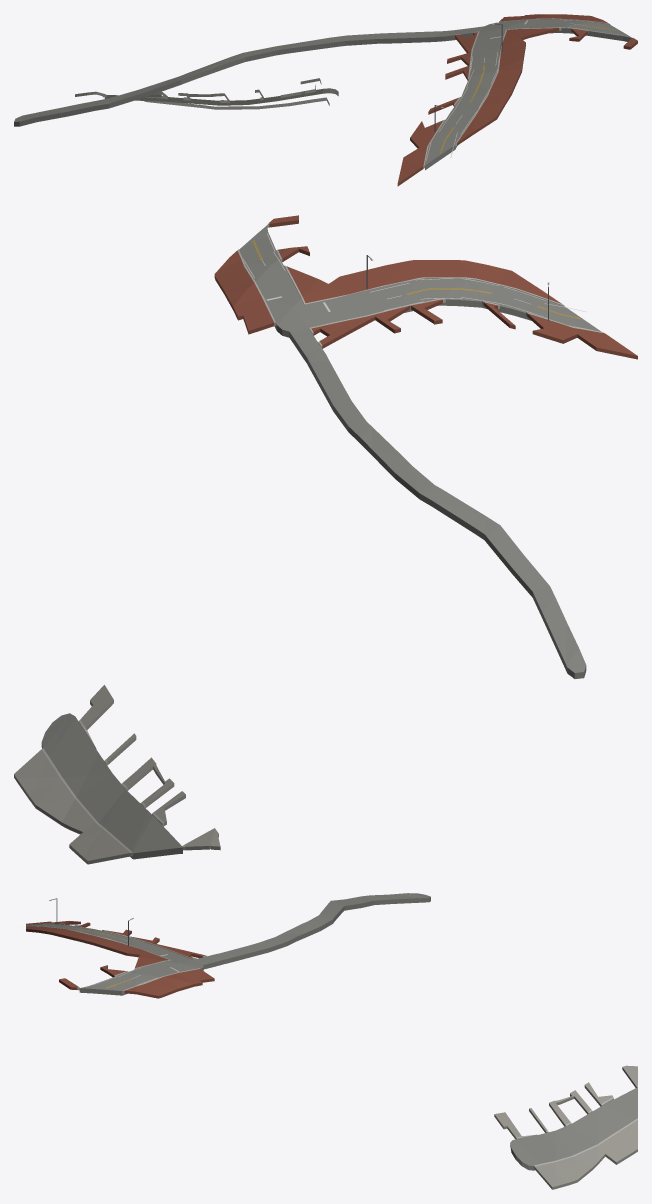
The picture shows the model from 3 angles, top to bottom: view 1: azimuth 30°, elevation 25°; view 2: azimuth 150°, elevation 25°; view 3: azimuth 270°, elevation 25°; orthographic projection. The views are drawn at different scales.
Bounding box in the file's own units: 112 × 67.13 × 149.
